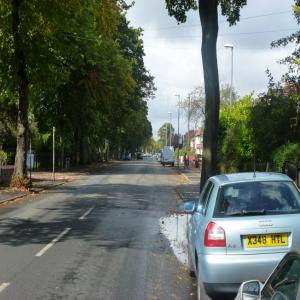Vehicle-registration-plate: (247, 235, 290, 248)
